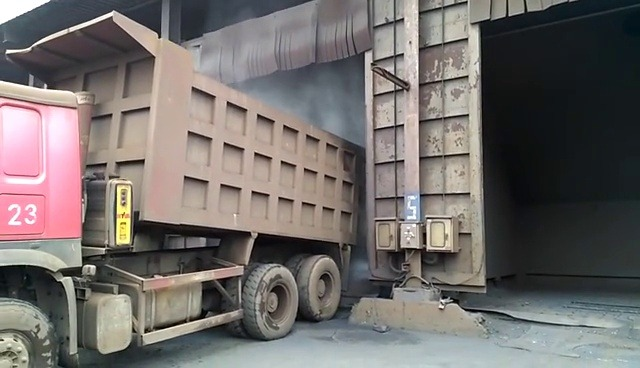dust: (203, 40, 370, 146)
truck: (0, 11, 362, 366)
